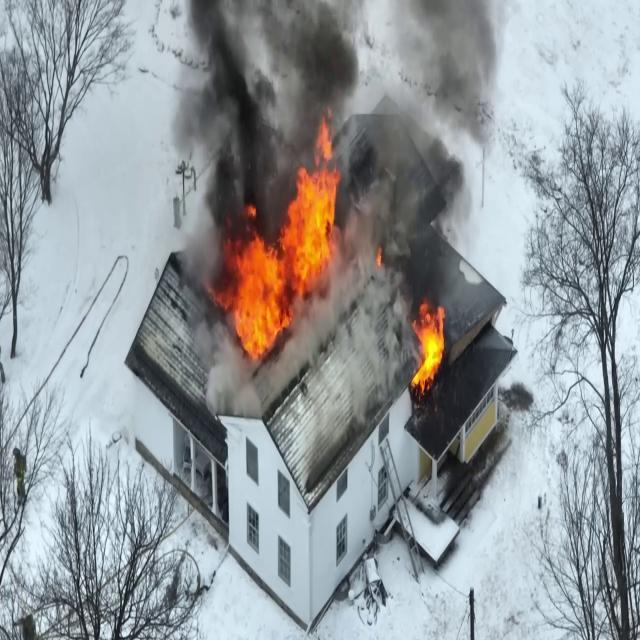Fire: (224, 130, 352, 368), (408, 296, 451, 398)
Smoke: (160, 0, 513, 269)
